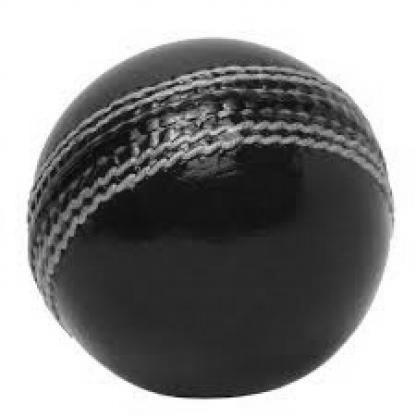bukan telur: (26, 38, 393, 402)
